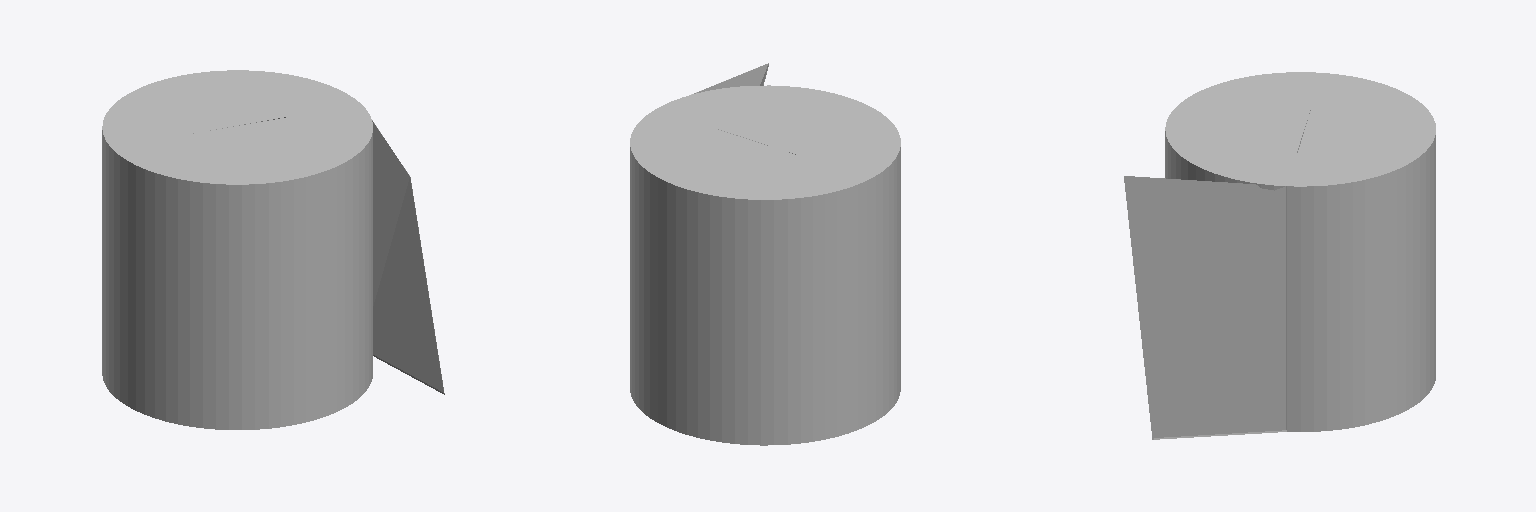
File: paper.obj
3 renders of one model, left to right at view 1: azimuth 30°, elevation 25°; view 2: azimuth 150°, elevation 25°; view 3: azimuth 270°, elevation 25°, orthographic.
Parts seen in each view (by area): view 1: off; view 2: off; view 3: off.
Part boxes in pixels (bbox=[...]): off: bbox=[102, 70, 444, 429]; off: bbox=[630, 63, 900, 445]; off: bbox=[1124, 72, 1435, 439].
Bounding box in the file's own units: 0.1085 × 0.1017 × 0.1173.